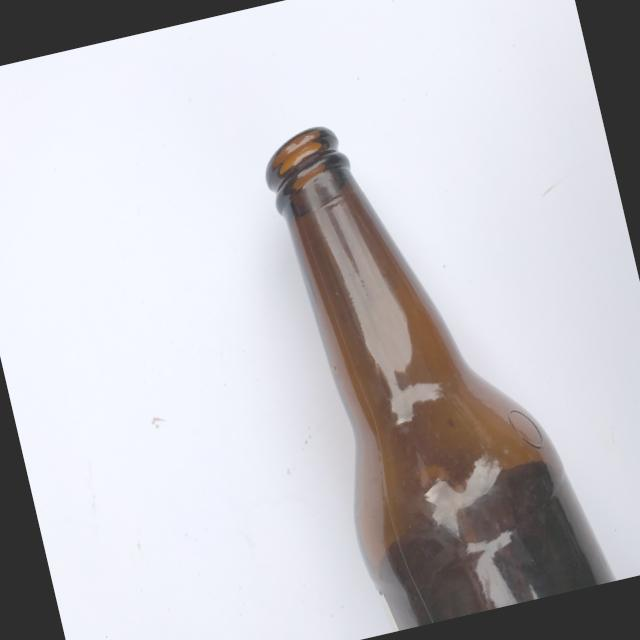Glass: (252, 77, 620, 638)
